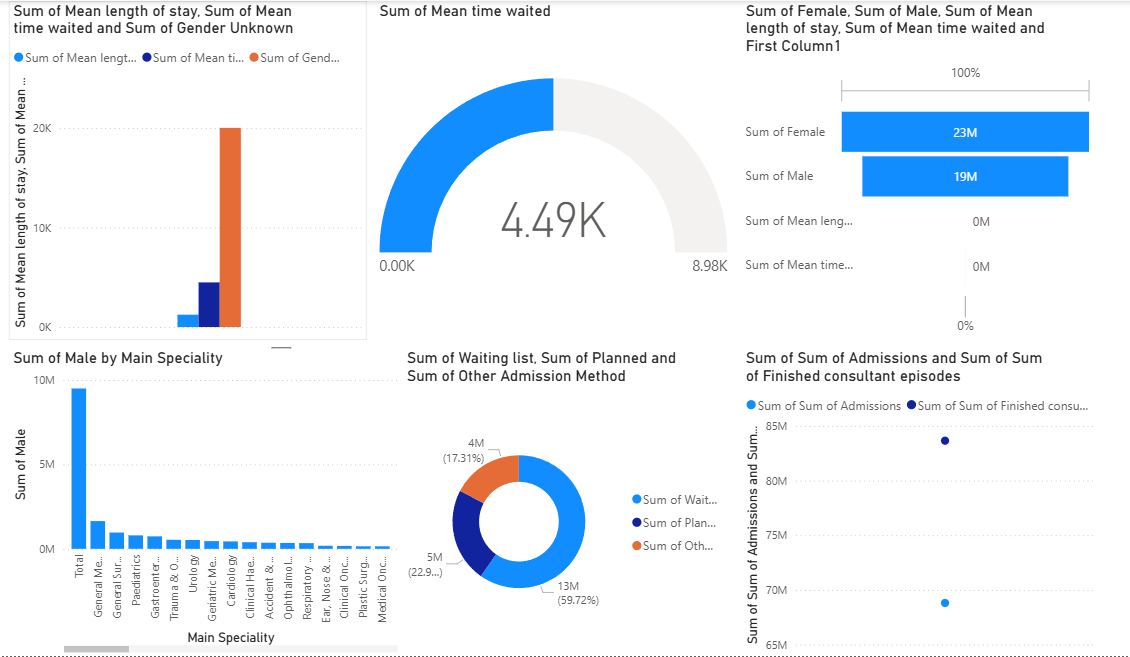

What the dashboard file says about the page in this screenshot:
{"tool":"powerbi","page":{"name":"Page 1","canvas":[1280,720],"ordinal":0},"visuals":[{"type":"clusteredColumnChart","fields":{"Y":["Sum(Main Specialty Edited (hosp-epi.Mean length of stay)","Sum(Main Specialty Edited (hosp-epi.Mean time waited)","Sum(Main Specialty Edited (hosp-epi.Gender Unknown)"]},"box":[9.6,0,392.5,371.9],"z":0},{"type":"clusteredColumnChart","fields":{"Y":["Sum(Main Specialty Edited (hosp-epi.Male)"],"Category":["Main Specialty Edited (hosp-epi.Main Speciality"]},"box":[9.6,381.5,432.2,338.9],"z":1000},{"type":"gauge","fields":{"Y":["Sum(Main Specialty Edited (hosp-epi.Mean time waited)"]},"box":[412,0,392,372],"z":2000},{"type":"donutChart","fields":{"Y":["Sum(Main Specialty Edited (hosp-epi.Waiting list)","Sum(Main Specialty Edited (hosp-epi.Planned)","Sum(Main Specialty Edited (hosp-epi.Other Admission Method)"]},"box":[442,381,362,339],"z":3000},{"type":"funnel","fields":{"Y":["Sum(Main Specialty Edited (hosp-epi.Female)","Sum(Main Specialty Edited (hosp-epi.Male)","Sum(Main Specialty Edited (hosp-epi.Mean length of stay)","Sum(Main Specialty Edited (hosp-epi.Mean time waited)"]},"box":[814,0,392,372],"z":4000},{"type":"lineChart","fields":{"Y":["Sum(Sheet3.Sum of Admissions)","Sum(Sheet3.Sum of Finished consultant episodes)"]},"box":[814,381,392,339],"z":5000}]}

Visuals, with their boxes on the page's 1280x720 design canvas (x1, y1, x2, y2). These are canvas units, not pixel positions in the 1130x657 screenshot, which may show the page scaled, cropped or inside an application window:
clusteredColumnChart - Sum(Main Specialty Edited (hosp-epi.Mean length of stay) x Sum(Main Specialty Edited (hosp-epi.Mean time waited): (10, 0, 402, 372)
clusteredColumnChart - Sum(Main Specialty Edited (hosp-epi.Male) x Main Specialty Edited (hosp-epi.Main Speciality: (10, 382, 442, 720)
gauge - Sum(Main Specialty Edited (hosp-epi.Mean time waited): (412, 0, 804, 372)
donutChart - Sum(Main Specialty Edited (hosp-epi.Waiting list) x Sum(Main Specialty Edited (hosp-epi.Planned): (442, 381, 804, 720)
funnel - Sum(Main Specialty Edited (hosp-epi.Female) x Sum(Main Specialty Edited (hosp-epi.Male): (814, 0, 1206, 372)
lineChart - Sum(Sheet3.Sum of Admissions) x Sum(Sheet3.Sum of Finished consultant episodes): (814, 381, 1206, 720)
